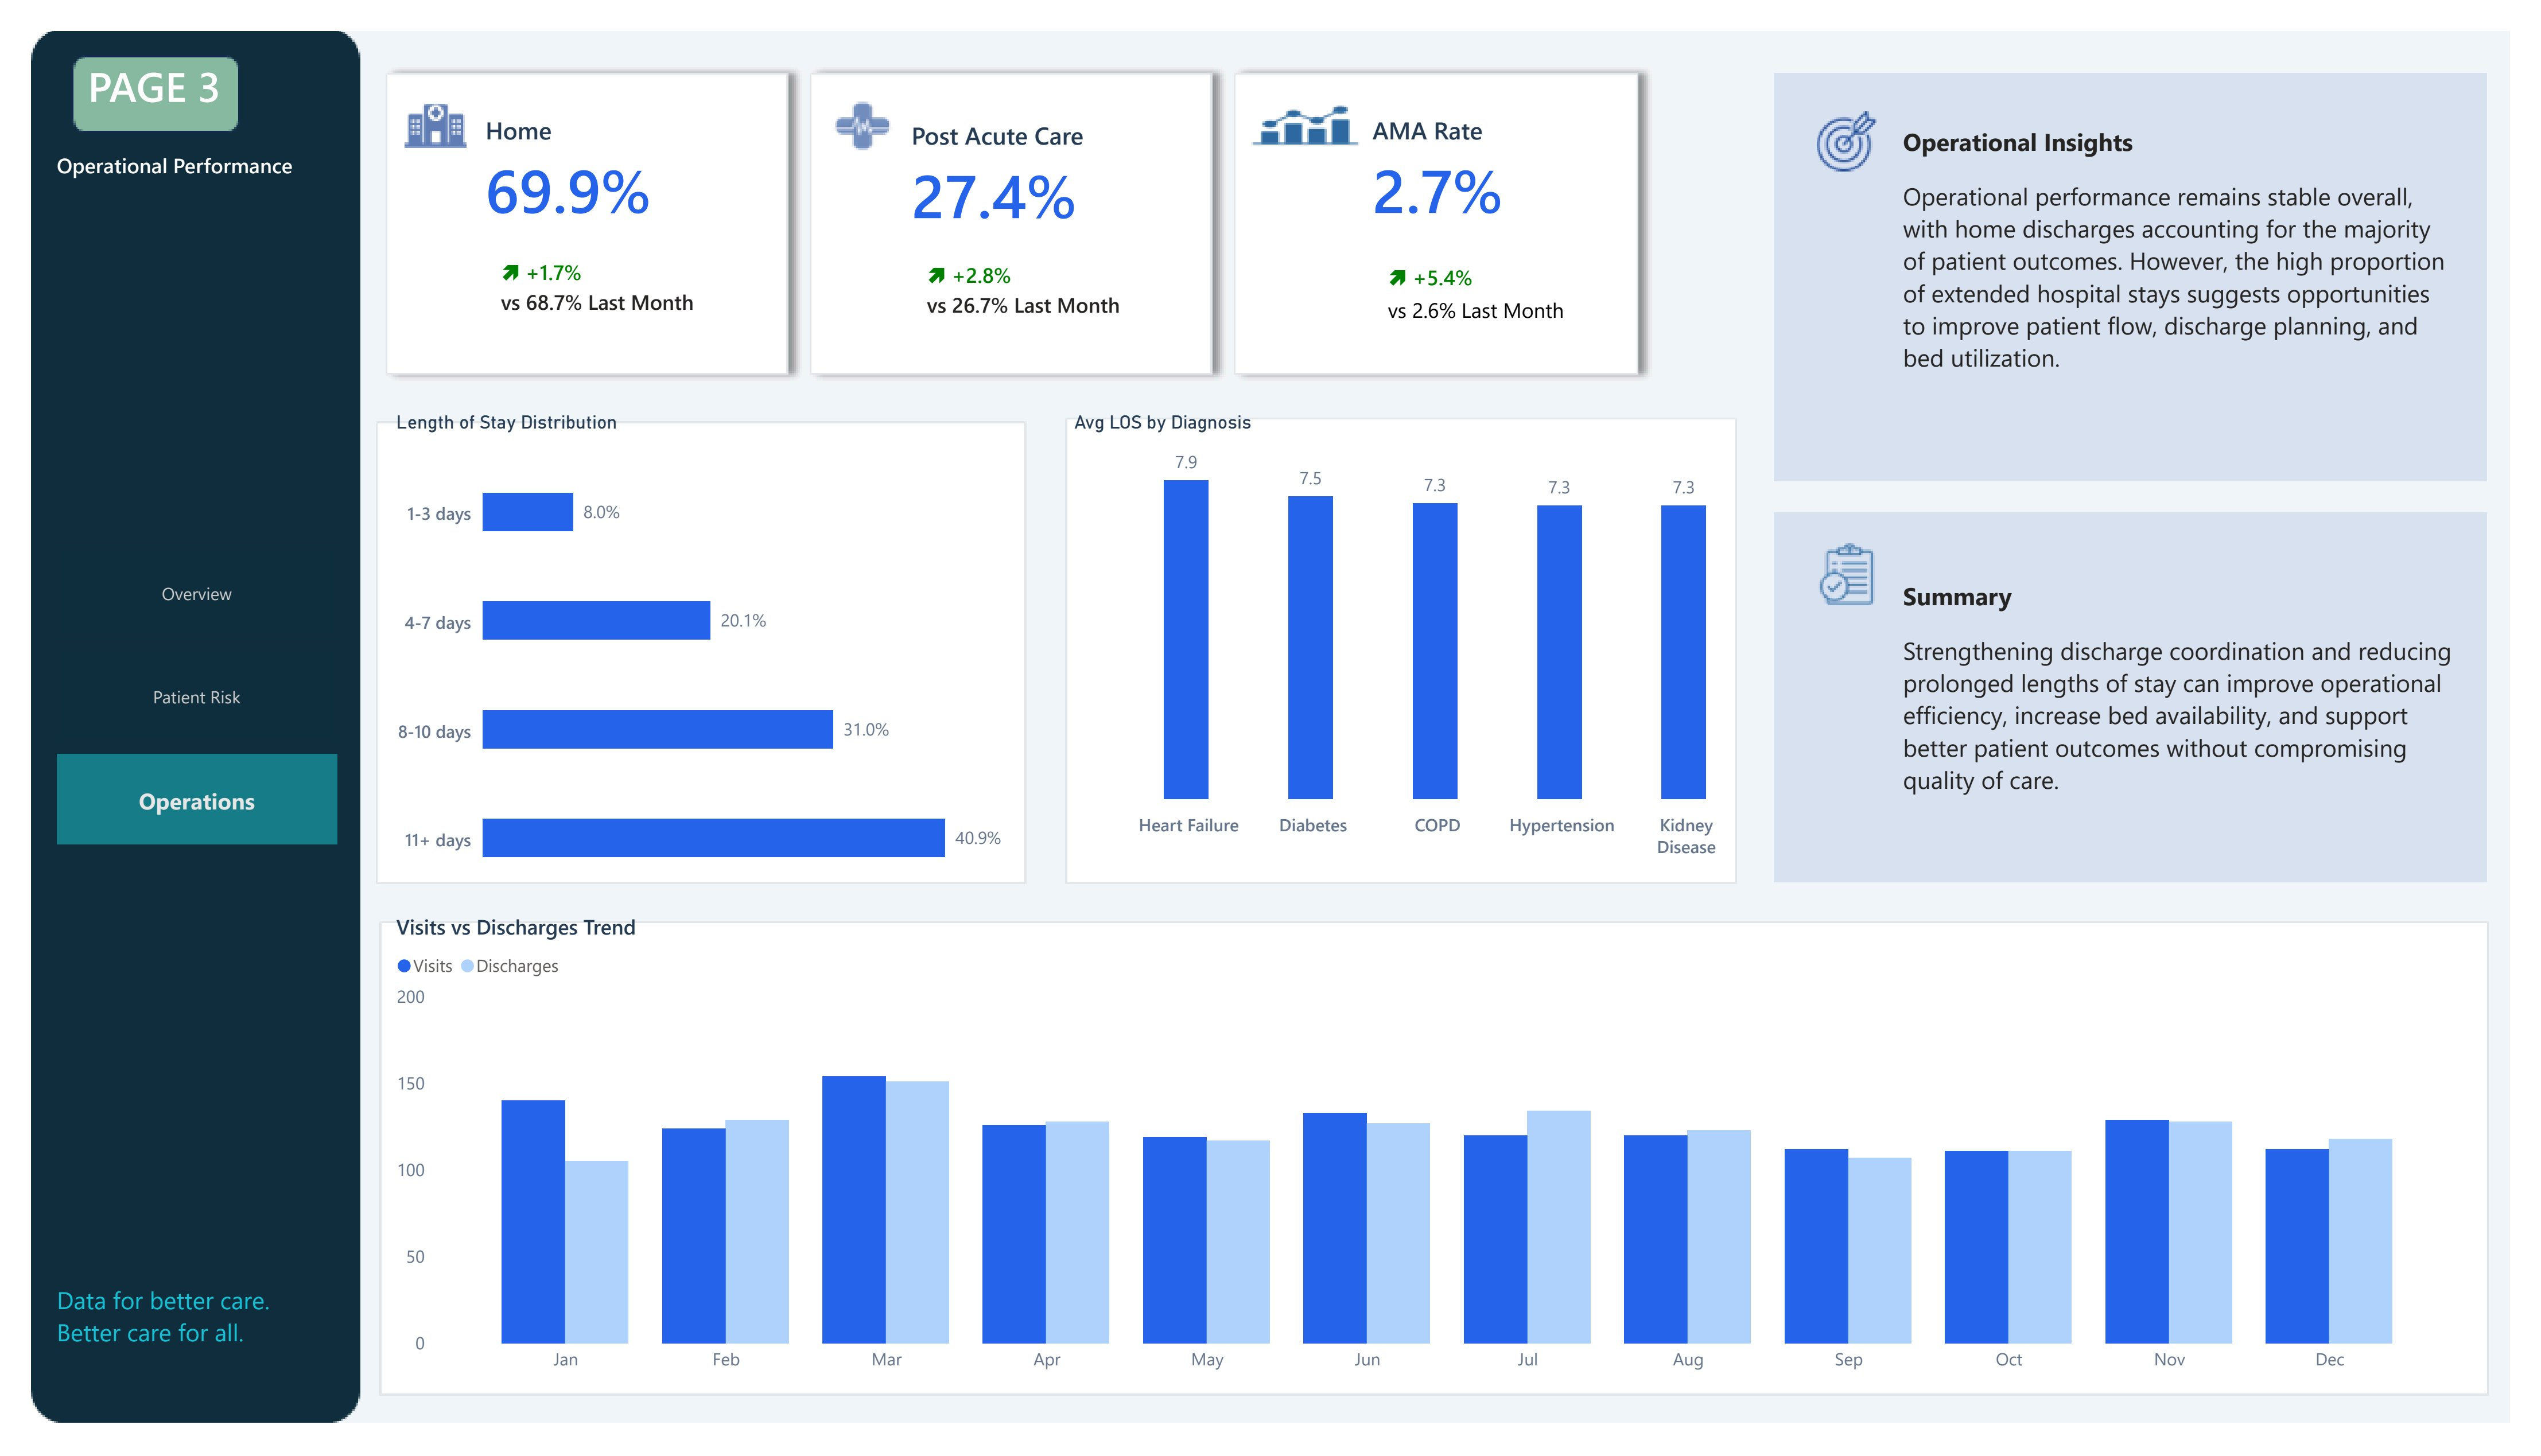

What the dashboard file says about the page in this screenshot:
{"tool":"powerbi","page":{"name":"Operations","canvas":[1920,1080],"ordinal":2},"visuals":[{"type":"clusteredColumnChart","title":"Avg LOS by Diagnosis","fields":{"Category":["readmissions.diagnosis"],"Y":["_measures.Avg_los"]},"box":[802.5,295,542.5,352.5],"z":0},{"type":"clusteredBarChart","title":"Length of Stay Distribution","fields":{"Category":["readmissions.losGroup"],"Y":["select","_measures.LOS_distribution%"]},"box":[277.5,295,482.5,387.5],"z":1000},{"type":"cardVisual","title":"Discharges","fields":{"Data":["_measures.AMA Rate"]},"box":[1010,47.5,232.5,207.5],"z":3000},{"type":"lineClusteredColumnComboChart","title":"Visits vs Discharges Trend","fields":{"Category":["Date.Month Name"],"Y":["_measures.Total Patients","_measures.TotalDischarges"]},"box":[277.5,682.5,1607.5,365],"z":4000},{"type":"pageNavigator","box":[20.1,400.1,217.4,230.2],"z":5000},{"type":"textbox","box":[1445,67.5,440,252.5],"z":6000},{"type":"textbox","box":[1445,420,440,210],"z":7000},{"type":"textbox","box":[38.5,15,126.3,72.8],"z":8000},{"type":"textbox","box":[15,87.8,222.6,74.9],"z":8001},{"type":"textbox","box":[15,965,222.5,85],"z":8002},{"type":"cardVisual","fields":{"Data":["_measures.Home Discharge Rate"]},"box":[322.5,47.5,255,207.5],"z":8003},{"type":"cardVisual","fields":{"Data":["_measures.Post Acute Care Rate"]},"box":[652.5,52.5,257.5,202.5],"z":8004}]}

Visuals, with their boxes in screenshot pixels (x1, y1, x2, y2), scaled from the page's 1920x1080 canvas onto the 2541x1456 screenshot:
"Avg LOS by Diagnosis" clusteredColumnChart: 1062,398,1780,873
"Length of Stay Distribution" clusteredBarChart: 367,398,1006,920
"Discharges" cardVisual: 1336,64,1645,344
"Visits vs Discharges Trend" lineClusteredColumnComboChart: 367,920,2495,1412
pageNavigator: 26,539,314,850
textbox: 1913,91,2495,431
textbox: 1913,566,2495,849
textbox: 51,20,218,118
textbox: 20,118,314,219
textbox: 20,1301,314,1416
cardVisual - _measures.Home Discharge Rate: 427,64,764,344
cardVisual - _measures.Post Acute Care Rate: 864,71,1205,344
